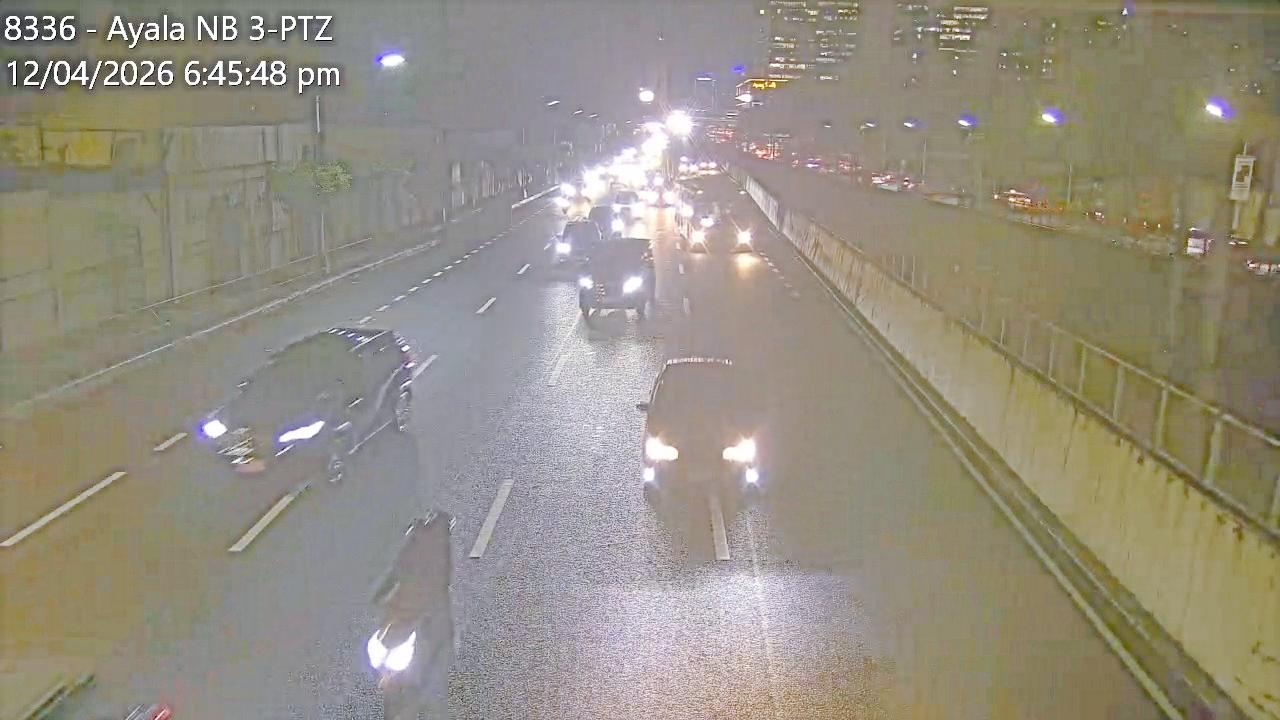Car: (193, 326, 416, 488), (639, 356, 765, 501), (574, 235, 655, 317), (684, 192, 756, 262), (551, 217, 604, 272), (586, 203, 618, 240), (610, 187, 641, 221)
Motor: (352, 509, 469, 715)
Not Accident: (554, 205, 656, 317)
